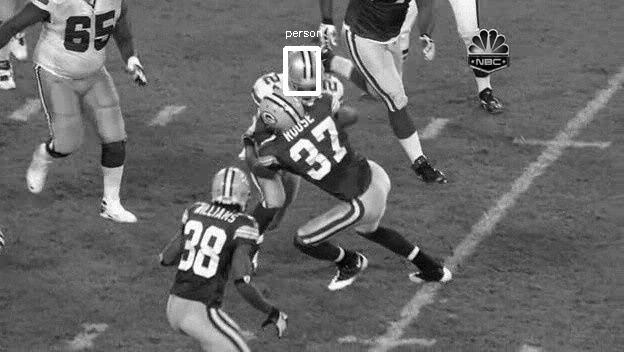person: (286, 49, 325, 99), (285, 49, 324, 99), (287, 49, 326, 99), (286, 48, 325, 98), (286, 50, 325, 100)
target_negative: (201, 7, 476, 131), (361, 19, 470, 275), (217, 28, 382, 158), (525, 229, 616, 296), (164, 111, 185, 200), (218, 327, 450, 328)
